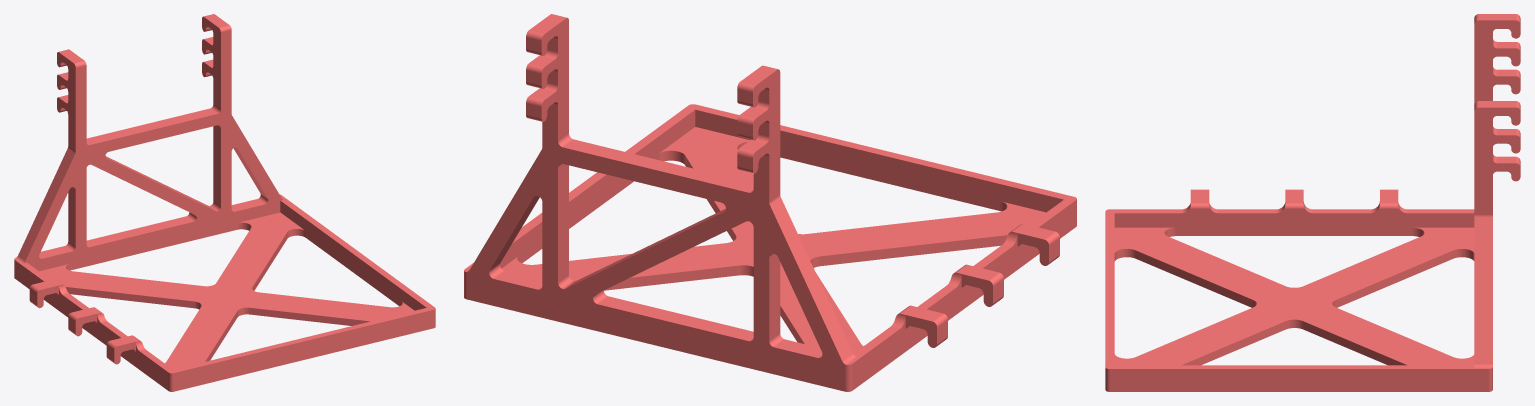
The model's file is shelfFrame.glb.
3 renders of one model, left to right at view 1: azimuth 30°, elevation 25°; view 2: azimuth 150°, elevation 25°; view 3: azimuth 270°, elevation 25°, orthographic. The views are drawn at different scales.
Visible parts, largest first — view 1: entity_2; view 2: entity_2; view 3: entity_2.
Part boxes in pixels (x1=…): entity_2: x1=14, y1=14, x2=435, y2=391; entity_2: x1=464, y1=14, x2=1076, y2=391; entity_2: x1=1105, y1=14, x2=1520, y2=391.
Size of the model in its own units: 133 by 90.2 by 135.
